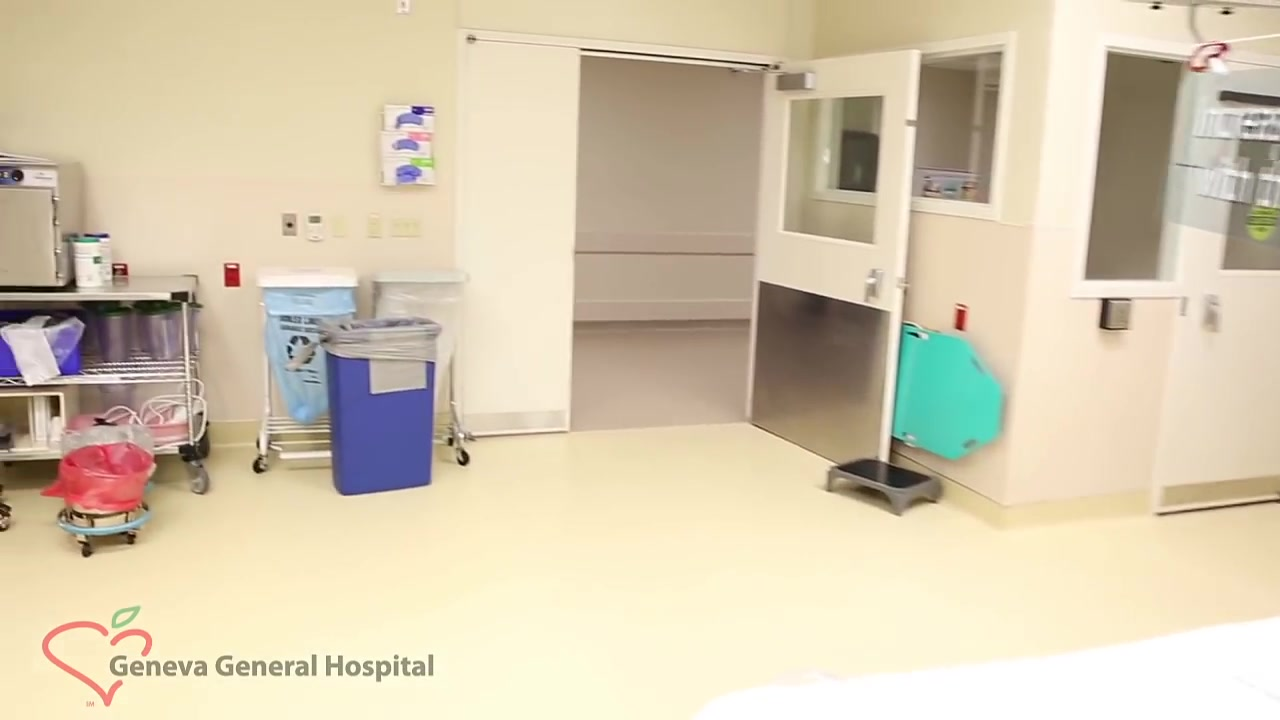dispenser: (374, 102, 436, 186)
door_handle: (1205, 304, 1225, 337), (861, 278, 876, 305)
press_to_open: (1103, 299, 1133, 331)
utility_cart: (1, 272, 212, 500)
waste_bin: (318, 315, 443, 496), (255, 268, 361, 474), (370, 269, 472, 465), (56, 442, 154, 558)
